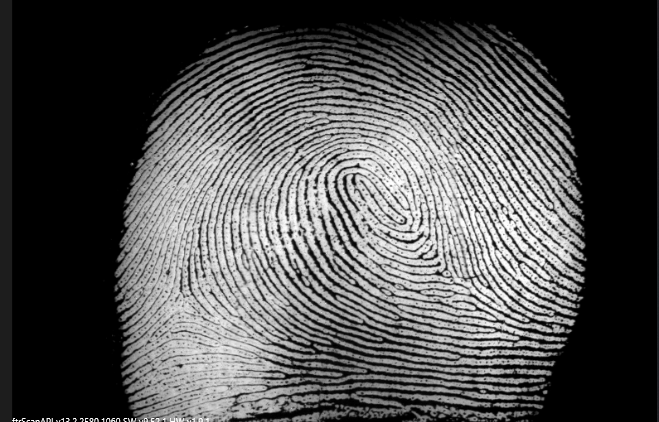nucelo: (350, 166, 405, 225)
verticilo: (165, 286, 208, 324), (424, 249, 454, 275)
